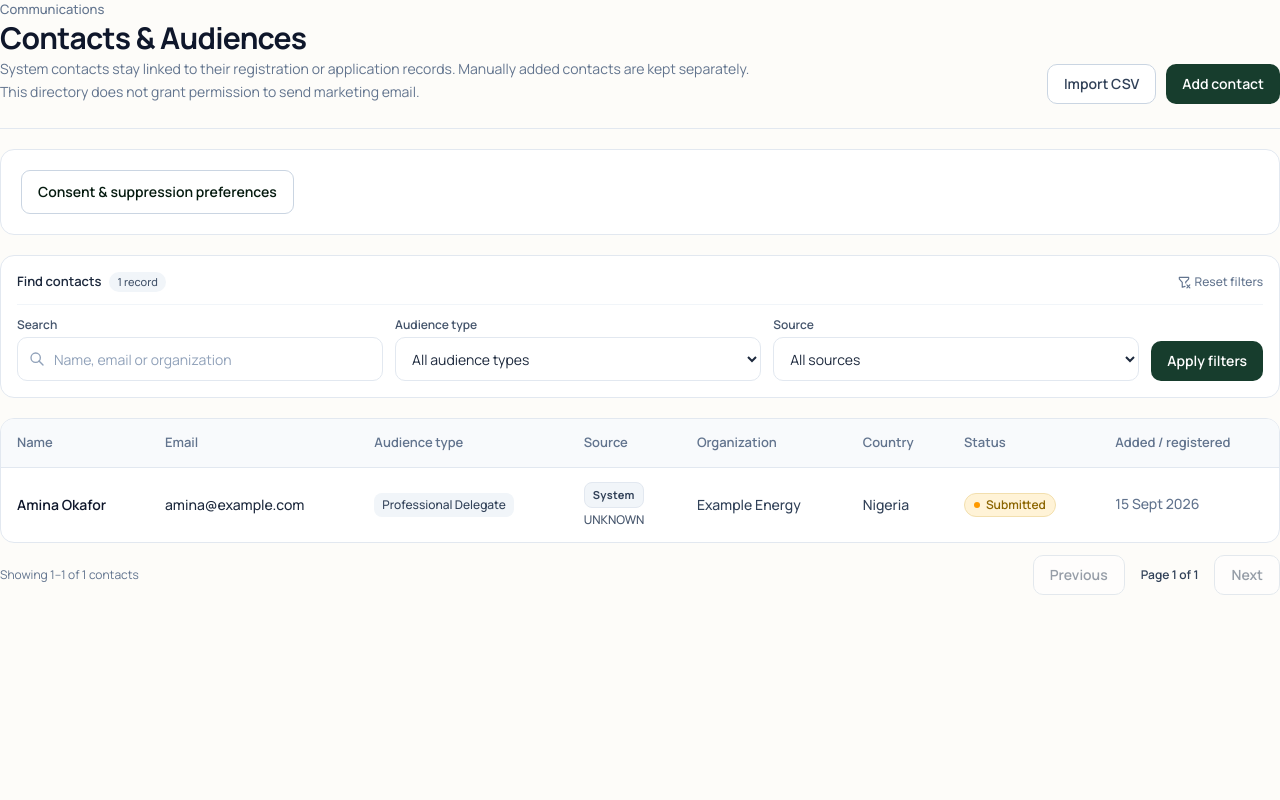
Test: Contacts & Audiences › gives specific duplicate-email feedback without creating a second record
Check: the text "Amina Okafor" is shown, box [1,467,149,542]
Click the button "Add contact".
click(1223, 84)  # box [1166,64,1279,104]
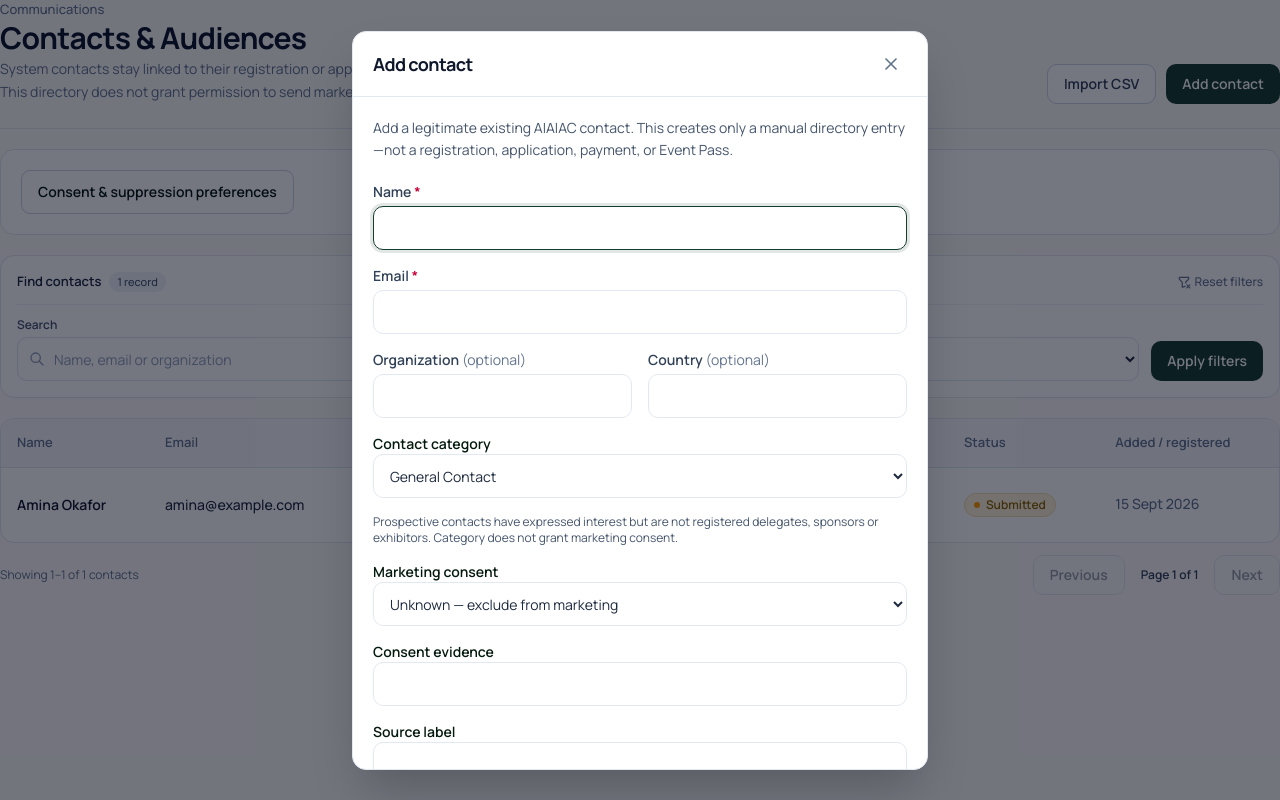
Select "Prospective Sponsor" in the dropdown labelled "Contact category" at {"x": 640, "y": 476}, box [373,454,907,498]
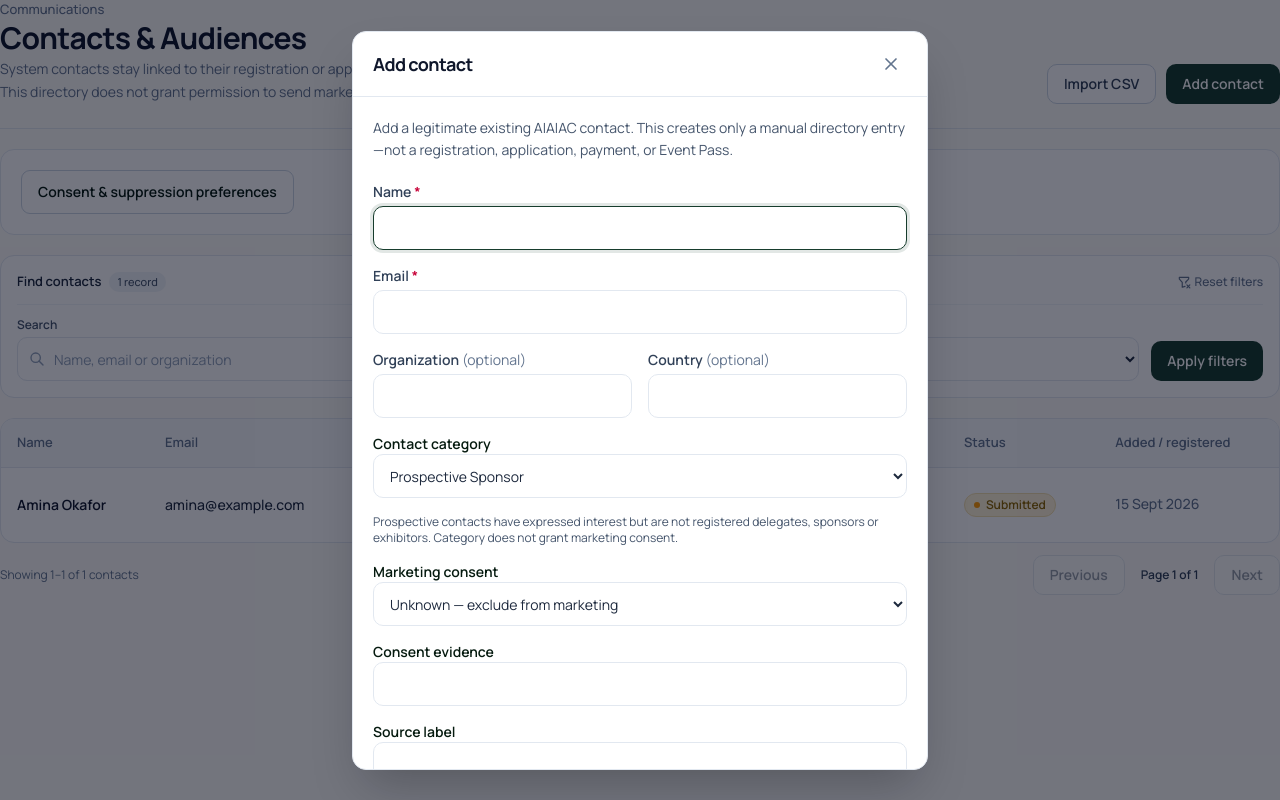
Type "Amina Okafor" into the field labelled "Name *".
click(640, 228); type("Amina Okafor")  # box [373,206,907,250]
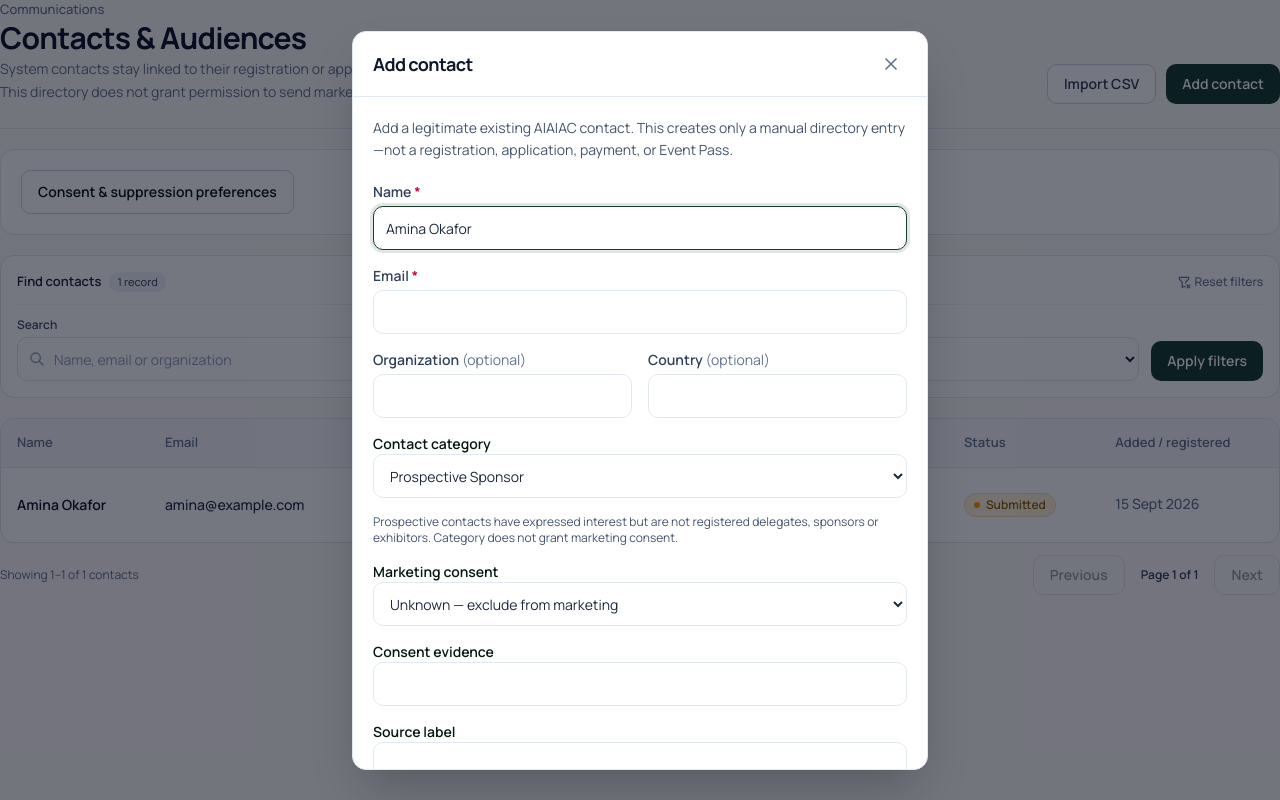
Type "AMINA@example.com" into the field labelled "Email *".
click(640, 312); type("AMINA@example.com")  # box [373,290,907,334]
(page scrolled)
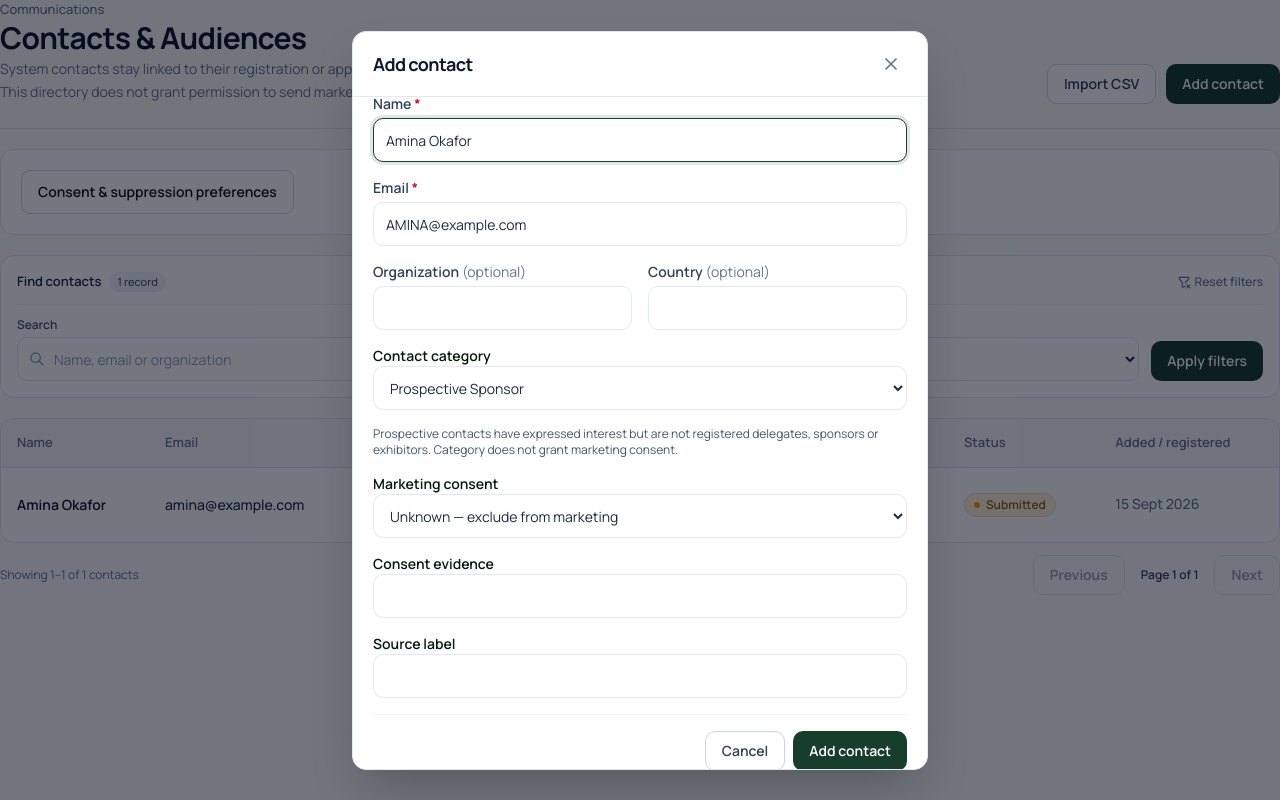
Submit the form that starts with "Name", box [373,94,907,771]
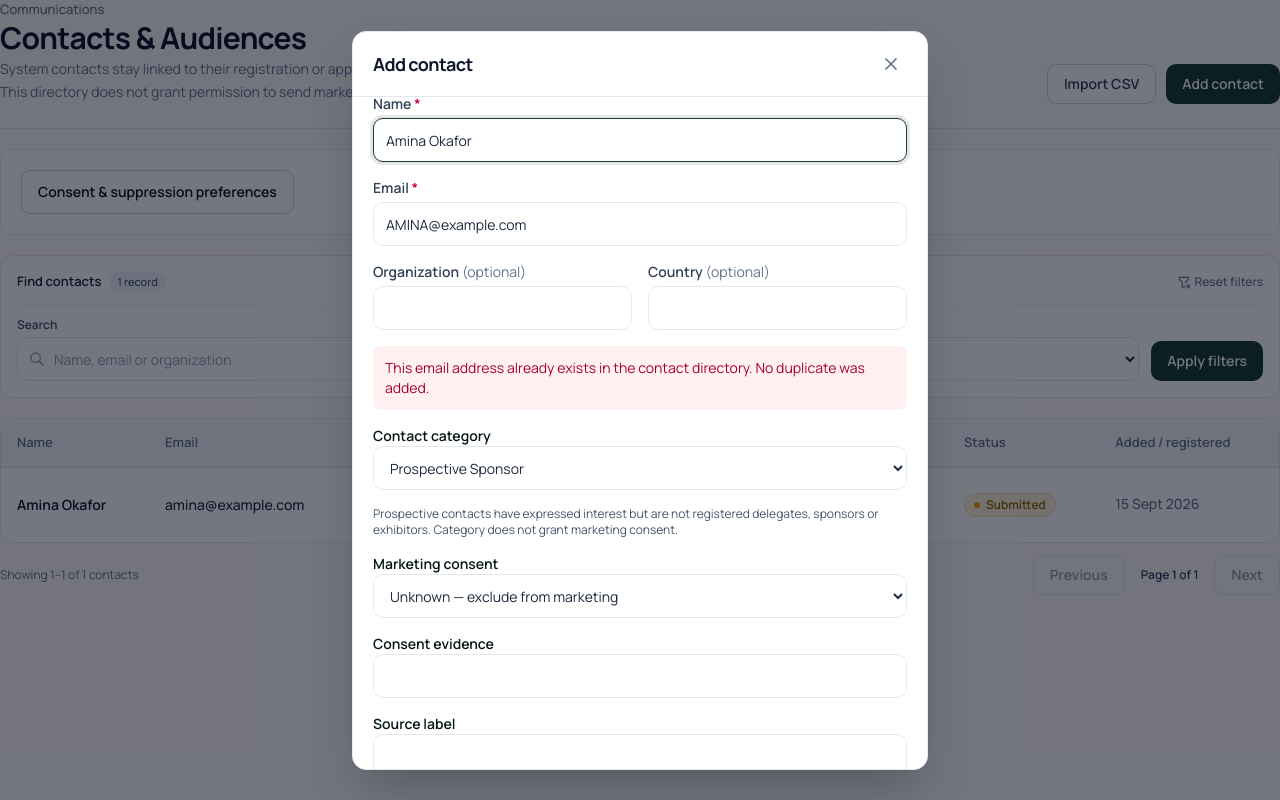
Check: the message shows "already exists", box [385,358,865,397]
